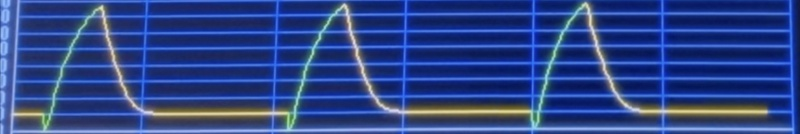leakage: (5, 0, 773, 133)
